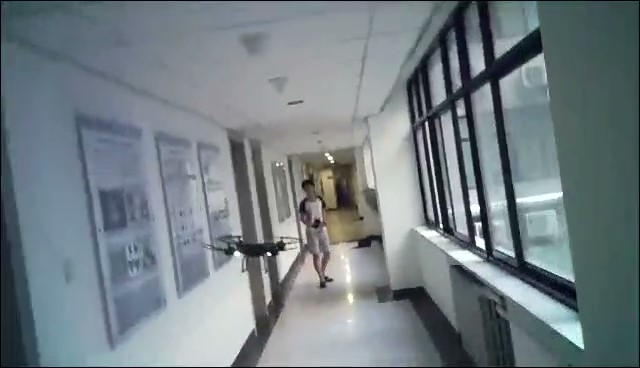drone: (199, 231, 305, 274)
person: (296, 179, 334, 289)
